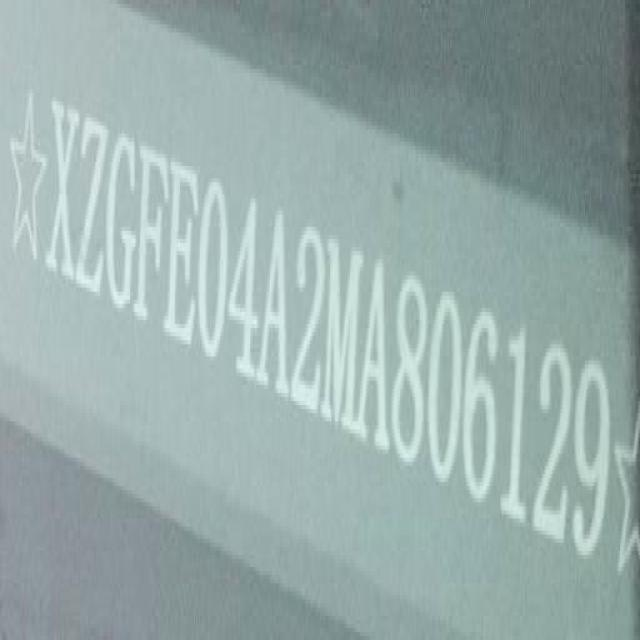0: (430, 287, 462, 494), (200, 174, 230, 373)
1: (502, 317, 529, 545)
2: (536, 340, 574, 561), (294, 232, 324, 420)
4: (228, 190, 260, 390)
6: (463, 304, 500, 514)
8: (392, 270, 428, 473)
9: (576, 353, 612, 569)
A: (260, 204, 293, 402), (360, 250, 390, 457)
E: (168, 161, 198, 357)
F: (138, 142, 168, 335)
G: (108, 125, 138, 320)
M: (325, 234, 359, 442)
X: (45, 89, 76, 300)
Z: (80, 107, 108, 309)
